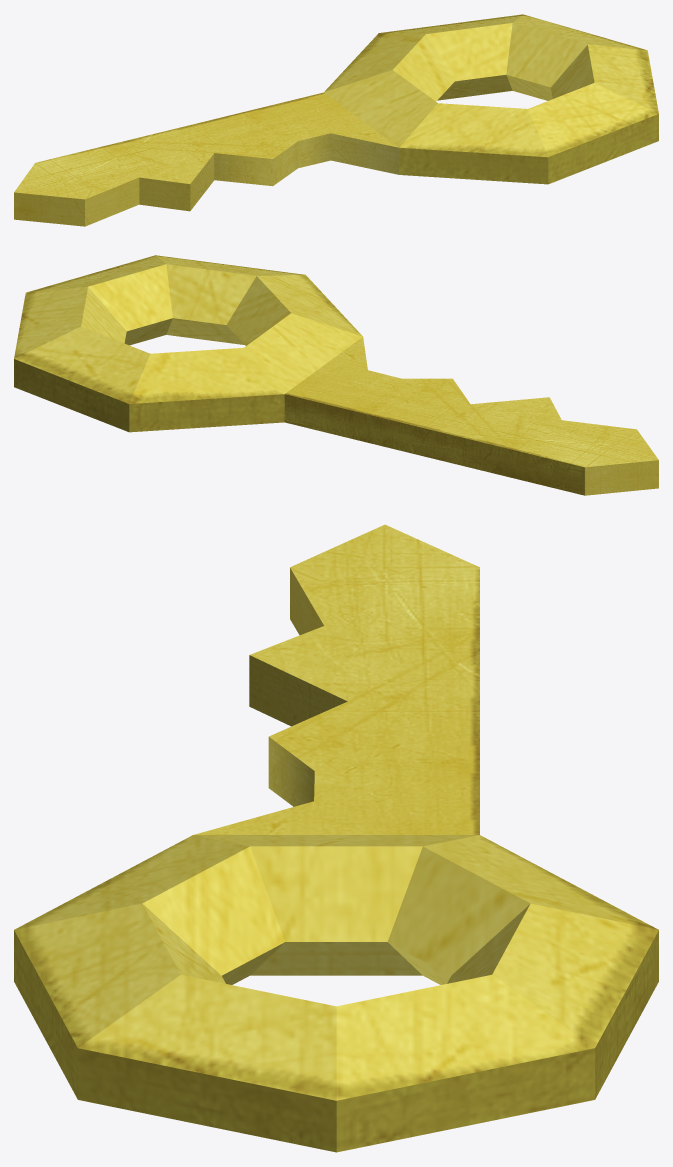
The model's file is fbx_key.fbx.
The picture shows the model from 3 angles, top to bottom: view 1: azimuth 30°, elevation 25°; view 2: azimuth 150°, elevation 25°; view 3: azimuth 270°, elevation 25°; orthographic projection. The views are drawn at different scales.
Visible parts, largest first — view 1: key; view 2: key; view 3: key.
Part boxes in pixels (x1,y1,x2,y2): key: (14,14,658,226); key: (14,255,658,495); key: (14,524,658,1152).
Bounding box in the file's own units: 6 × 0.6277 × 2.84.
